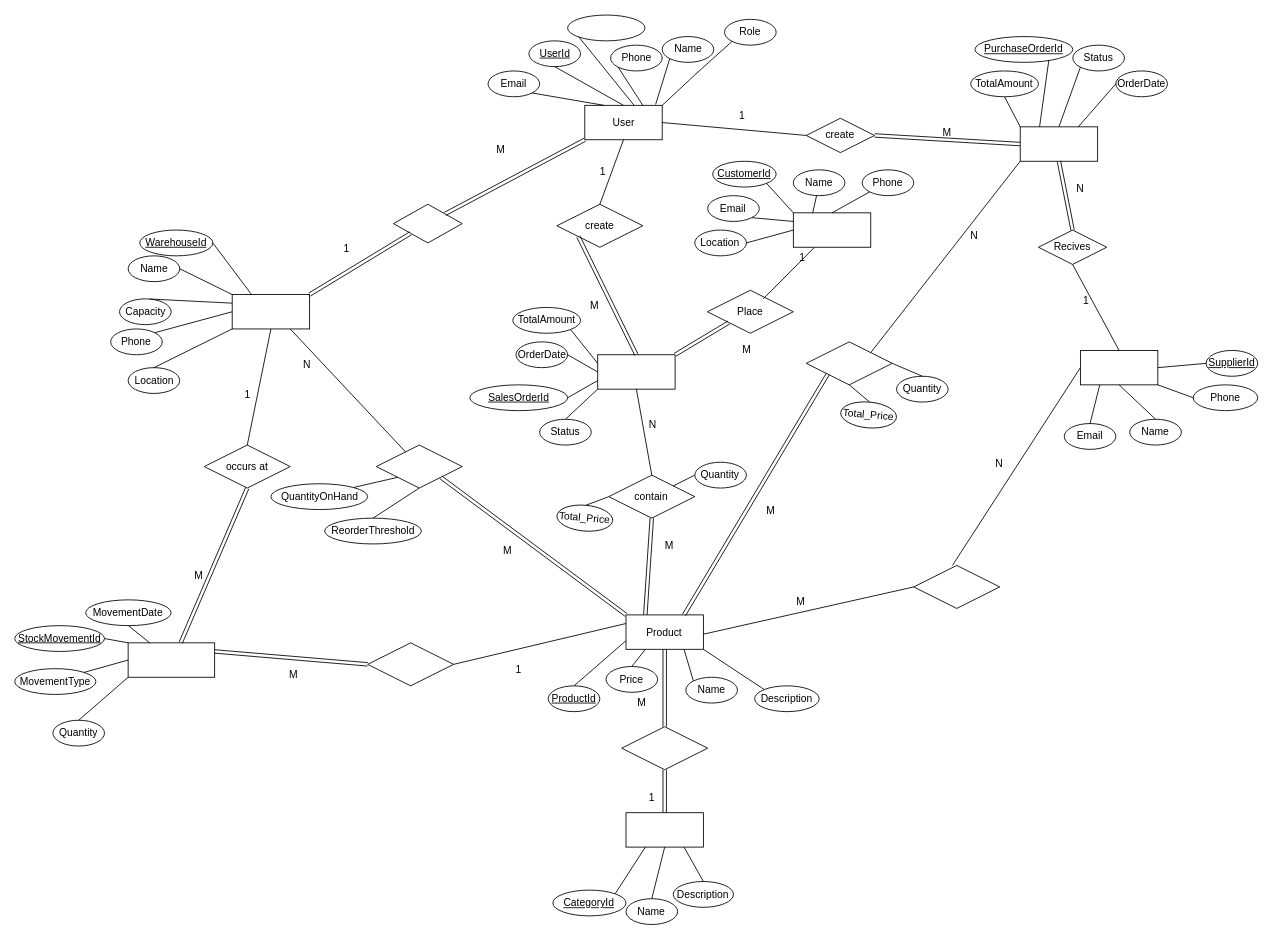
This 1274x940 diagram has some shape labels left out. Here are the shapes that lost their labels. From the top down, the box of each, then its label:
(567, 14, 645, 41): PasswordHash
(1019, 126, 1098, 161): PurchaseOrder
(393, 203, 462, 243): Work
(792, 212, 871, 247): Customer
(231, 294, 310, 329): Warehouse
(597, 354, 675, 389): SalesOrder
(805, 341, 892, 385): Purchase
(1080, 350, 1158, 385): Supplier
(375, 444, 462, 488): has
(913, 565, 1000, 608): Supplies
(127, 642, 215, 677): StockMovement
(367, 642, 454, 686): Records
(621, 726, 708, 770): Belongs to
(625, 812, 703, 847): Category
